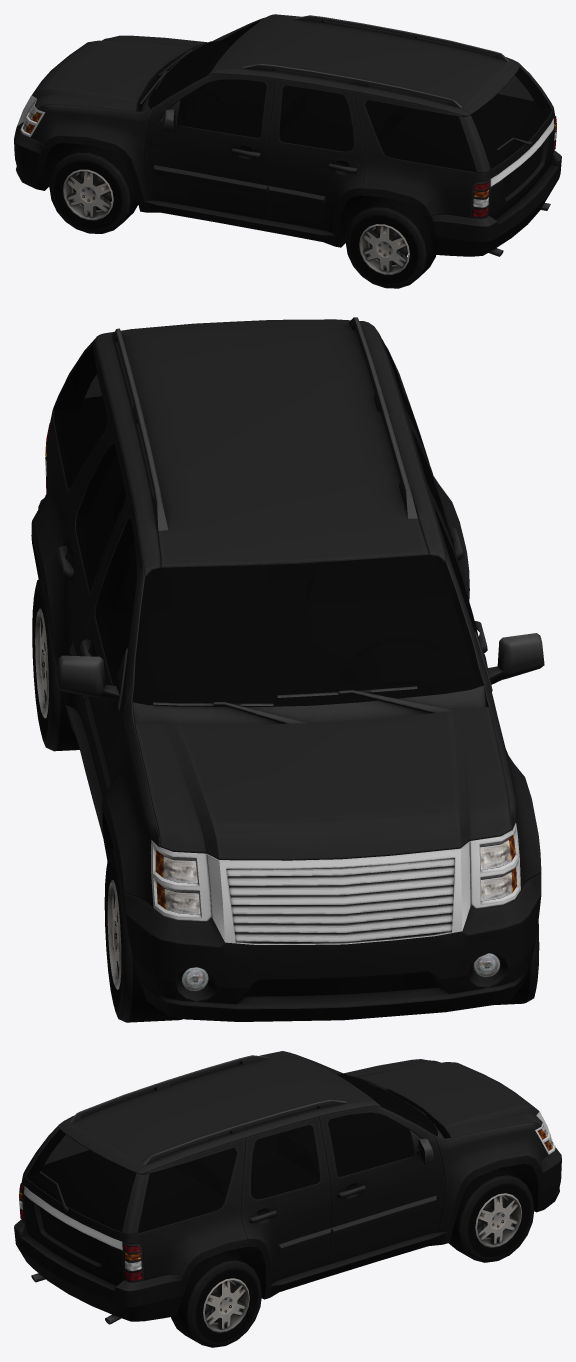
Rendered from suv.glb.
The picture shows the model from 3 angles, top to bottom: view 1: azimuth 30°, elevation 25°; view 2: azimuth 150°, elevation 25°; view 3: azimuth 270°, elevation 25°; orthographic projection. The views are drawn at different scales.
Parts seen in each view (by area): view 1: SUV Body, Wheel_E001, Wheel_E; view 2: SUV Body, Wheel_E002, Wheel_E003; view 3: SUV Body, Wheel_E003, Wheel_E002.
Part boxes in pixels (bbox=[...]): SUV Body: bbox=[14, 14, 561, 256]; Wheel_E001: bbox=[345, 197, 435, 288]; Wheel_E: bbox=[49, 144, 138, 233]; SUV Body: bbox=[31, 317, 544, 1021]; Wheel_E002: bbox=[104, 849, 182, 1022]; Wheel_E003: bbox=[32, 578, 79, 751]; SUV Body: bbox=[14, 1051, 561, 1324]; Wheel_E003: bbox=[171, 1252, 261, 1347]; Wheel_E002: bbox=[448, 1168, 534, 1262].
Bounding box in the file's own units: 3.83 × 1.73 × 4.42.
Materials: 4 (3 with a texture image).
